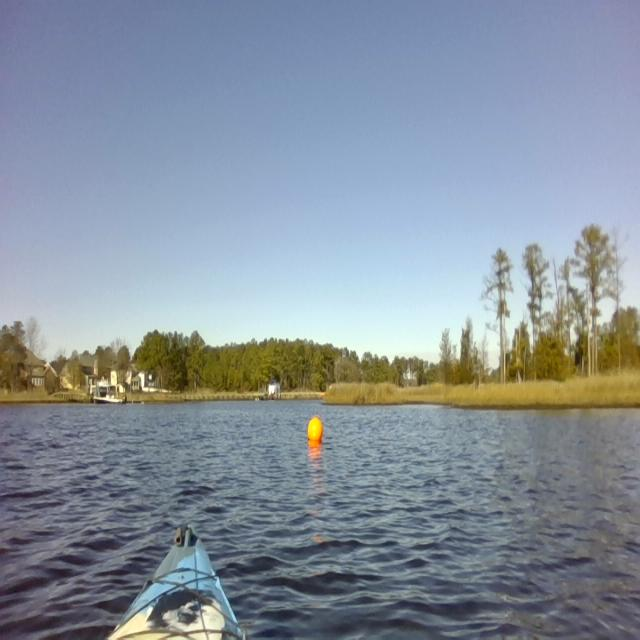Buoy: (302, 406, 328, 455)
